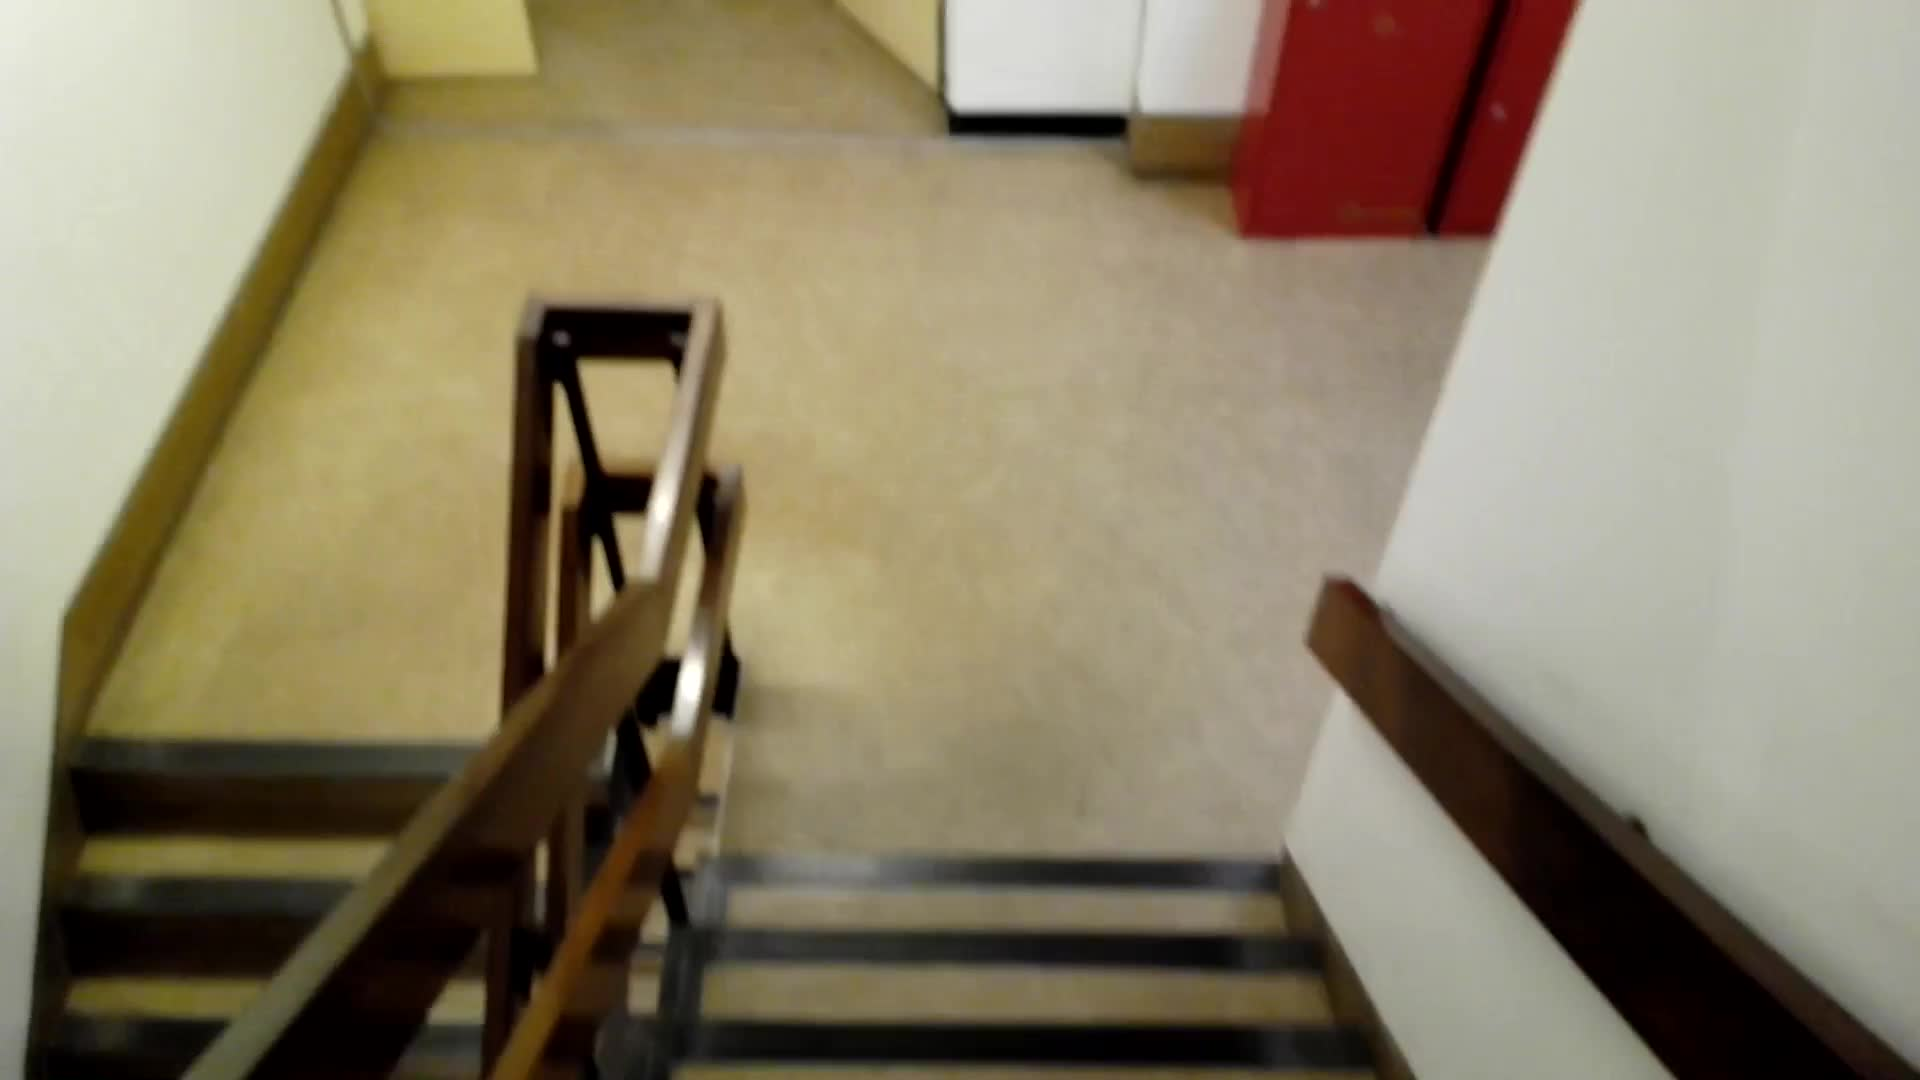Stairs: (42, 683, 607, 1077), (666, 802, 1448, 1080)
